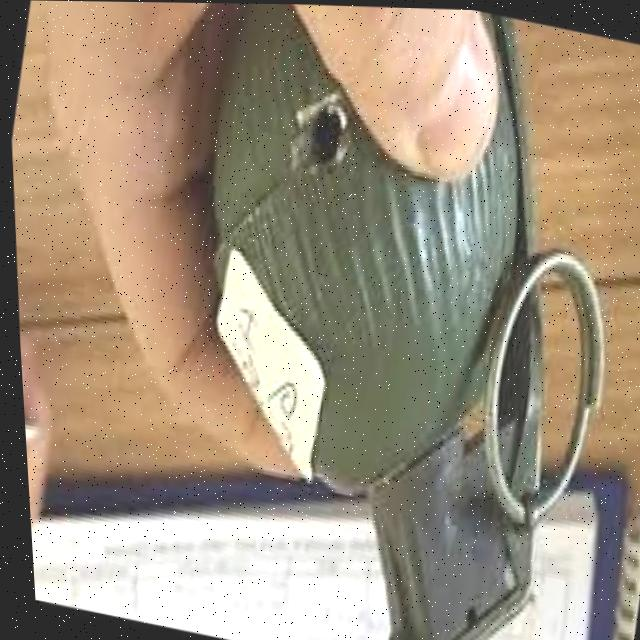grenade: (106, 1, 640, 640)
